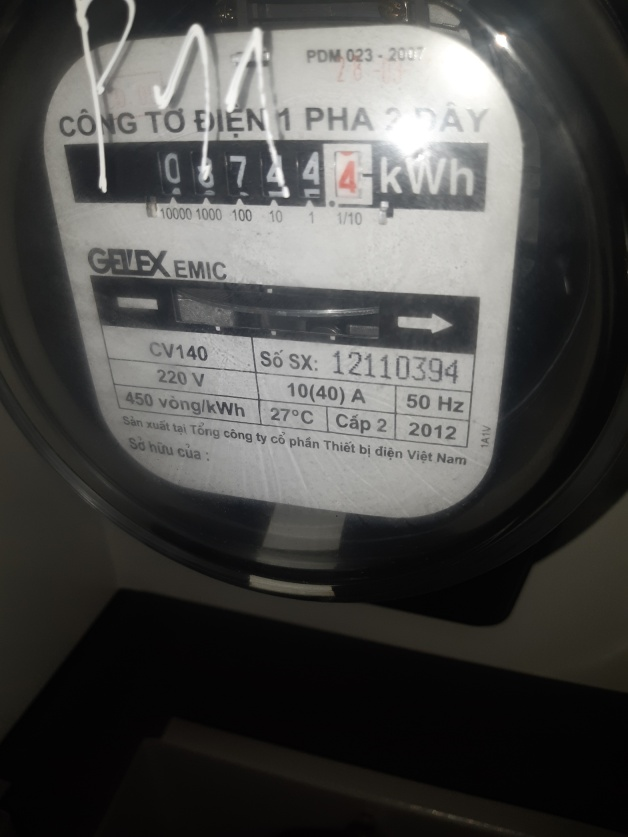counter: (63, 142, 490, 211)
electricity_meter: (7, 11, 610, 580)
